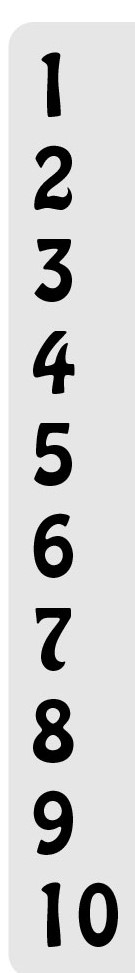character: (13, 228, 103, 321), (14, 598, 96, 692), (14, 41, 99, 129), (15, 412, 100, 493), (15, 504, 91, 593), (17, 322, 95, 408), (26, 777, 101, 860), (23, 690, 91, 776), (27, 142, 95, 221), (71, 875, 130, 963), (29, 874, 69, 962)
